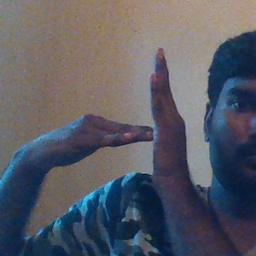Z: (84, 45, 201, 193)
